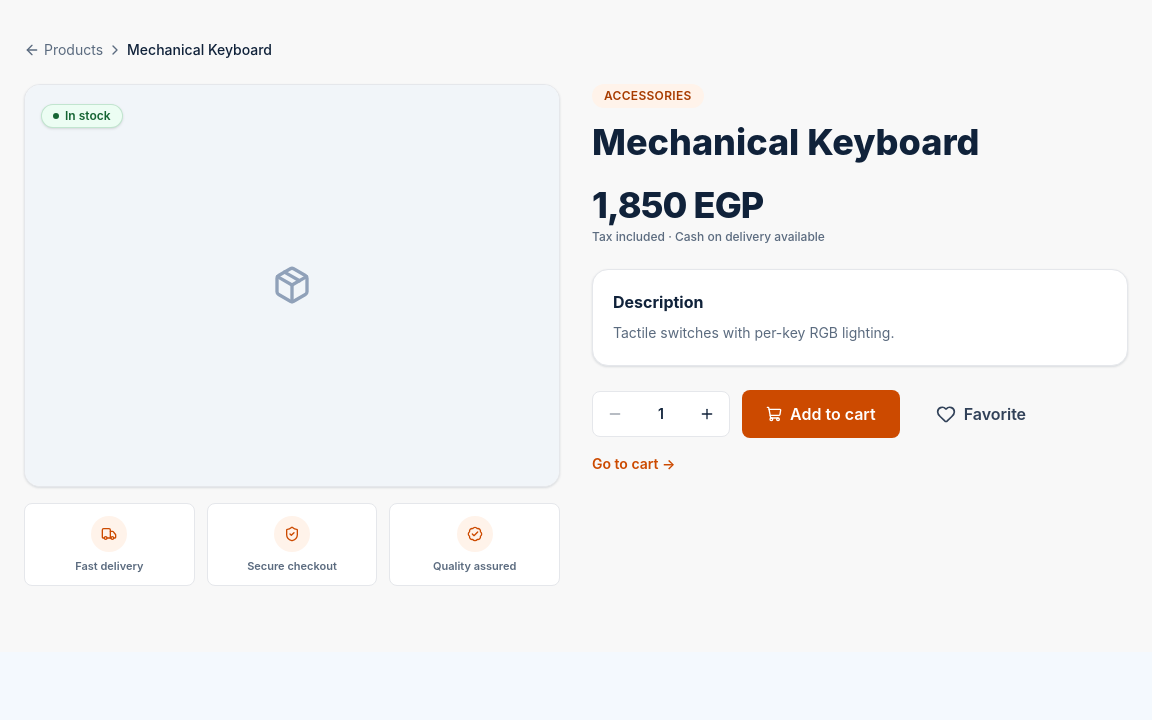
Test case: product detail page › hearts and un-hearts the product
Expected: the heading "Mechanical Keyboard" is shown, [592, 120, 980, 164]
Click the button named "Add to favorites" at (981,414), box [912, 390, 1050, 438]
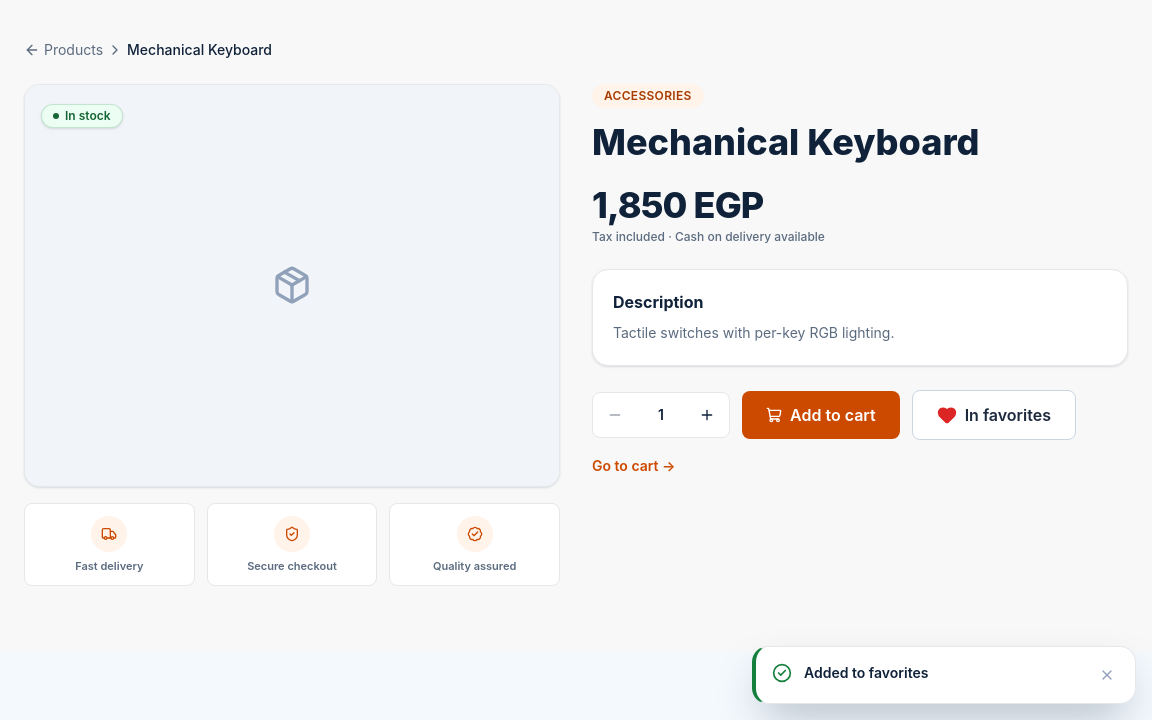
Expected: the button named "Remove from favorites" is shown, [912, 390, 1076, 440]
